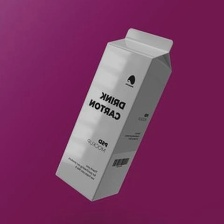carton: (51, 24, 175, 204)
